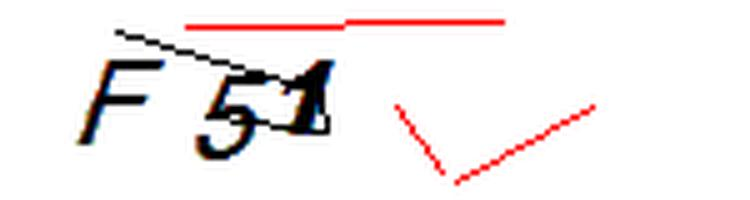1: (274, 52, 340, 156)
5: (186, 67, 278, 170)
F: (70, 53, 175, 152)
